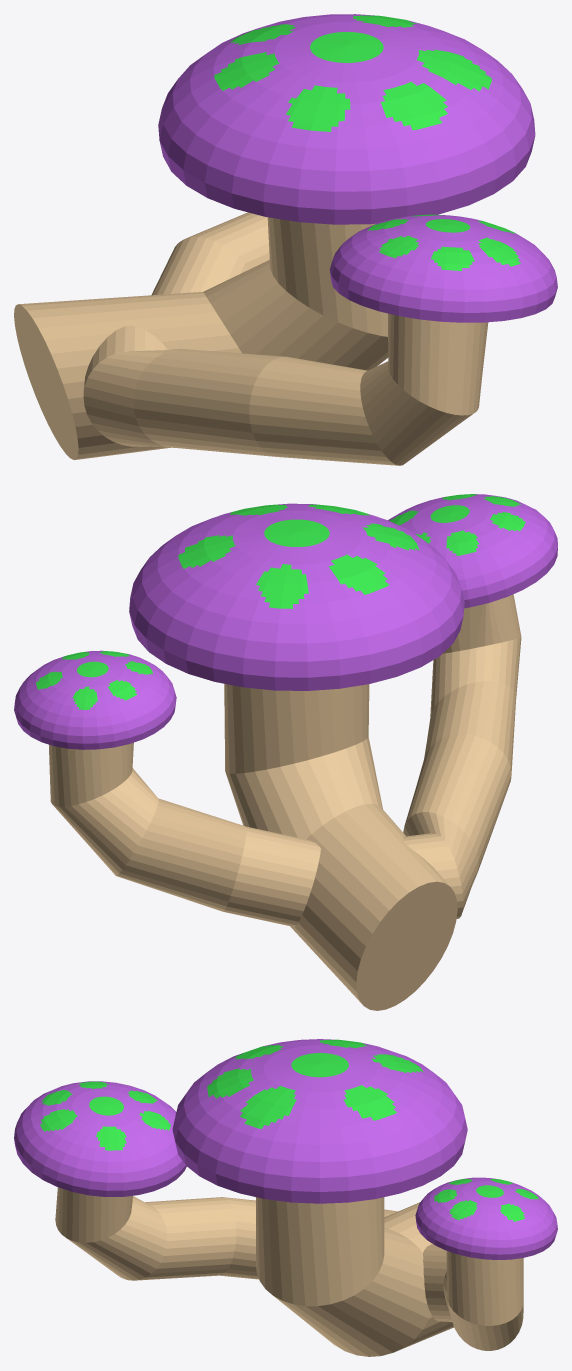
Rendered from magic_mushrooms.fbx.
The picture shows the model from 3 angles, top to bottom: view 1: azimuth 30°, elevation 25°; view 2: azimuth 150°, elevation 25°; view 3: azimuth 270°, elevation 25°; orthographic projection. The views are drawn at different scales.
Visible parts, largest first — view 1: mushrom_composite, simple_mushroom_2, big_mushroom_stalk, long_mushroom_stalk, simple_mushroom_3; view 2: mushrom_composite, simple_mushroom_3, big_mushroom_stalk, long_mushroom_stalk, simple_mushroom_2, short_mushroom_stalk; view 3: mushrom_composite, big_mushroom_stalk, simple_mushroom_3, long_mushroom_stalk, simple_mushroom_2.
Boxes of the visible parts, x1=… form: mushrom_composite: x1=19, y1=14, x2=557, y2=459; simple_mushroom_2: x1=91, y1=252, x2=557, y2=465; big_mushroom_stalk: x1=14, y1=218, x2=388, y2=459; long_mushroom_stalk: x1=83, y1=314, x2=398, y2=425; simple_mushroom_3: x1=151, y1=212, x2=267, y2=295; mushrom_composite: x1=36, y1=494, x2=557, y2=1010; simple_mushroom_3: x1=14, y1=650, x2=320, y2=926; big_mushroom_stalk: x1=224, y1=684, x2=457, y2=1010; long_mushroom_stalk: x1=403, y1=600, x2=512, y2=917; simple_mushroom_2: x1=431, y1=526, x2=557, y2=918; short_mushroom_stalk: x1=98, y1=745, x2=320, y2=851; mushrom_composite: x1=14, y1=1039, x2=555, y2=1356; big_mushroom_stalk: x1=256, y1=1197, x2=453, y2=1355; simple_mushroom_3: x1=417, y1=1177, x2=557, y2=1349; long_mushroom_stalk: x1=75, y1=1193, x2=397, y2=1277; simple_mushroom_2: x1=14, y1=1127, x2=258, y2=1280.
Bounding box in the file's own units: 602 × 561 × 837.
